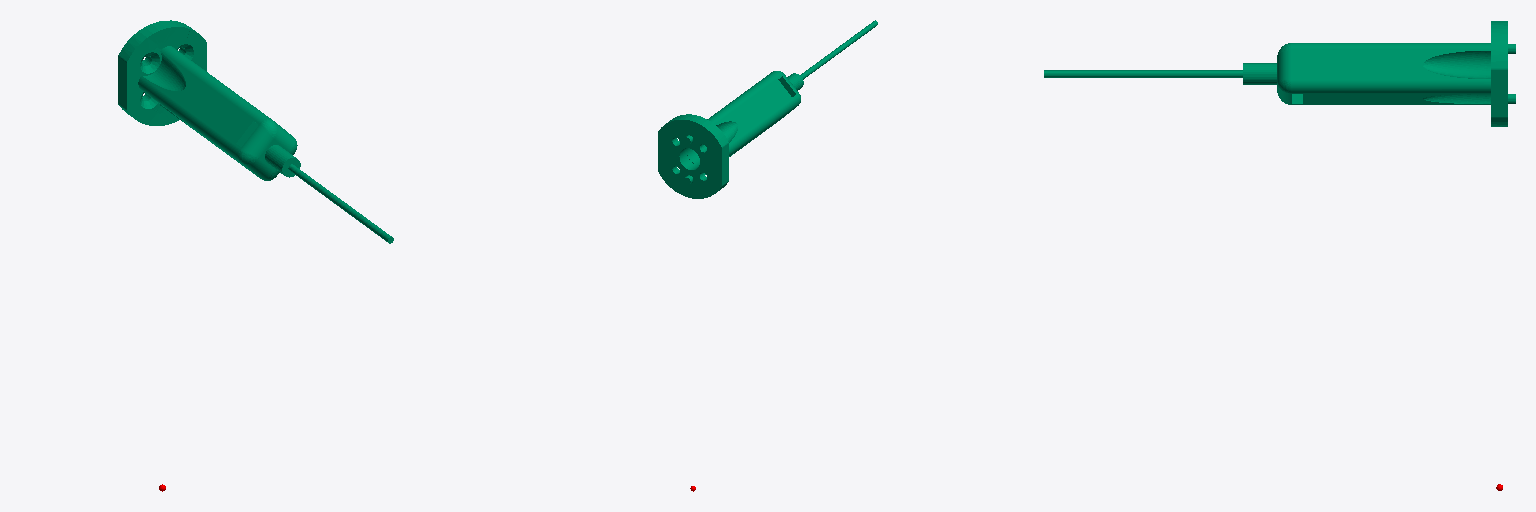
URDF robot description (meca500_tool_needle):
<?xml version="1.0" ?>
<!-- =================================================================================== -->
<!-- |    This document was autogenerated by xacro from dummy_needle_tool.urdf.xacro   | -->
<!-- |    EDITING THIS FILE BY HAND IS NOT RECOMMENDED                                 | -->
<!-- =================================================================================== -->
<robot name="meca500_tool_needle">
  <!-- <link name="world_base">
    </link>
    
    <joint name="world_base" type="fixed">
        <parent link="world_base"/>
        <child link="dummy_needle_base"/>
        <origin rpy="0 0 0" xyz="0 0 0"/>
      </joint> -->
  <link name="dummy_needle_base">
    </link>
  <link name="dummy_needle_ball_link">
    <collision>
      <origin rpy="0 0 0" xyz="0 0 0"/>
      <geometry>
        <sphere radius="0.002"/>
      </geometry>
    </collision>
    <visual>
      <origin rpy="0 0 0" xyz="0 0 0"/>
      <geometry>
        <sphere radius="0.001"/>
      </geometry>
      <material name="red">
        <color rgba="1.0 0.0 0.0 1.0"/>
      </material>
    </visual>
  </link>
  <link name="dummy_needle_cylinder_link">
    <collision>
      <origin rpy="0 1.5707963267948966 -1.5707963267948966" xyz="0 0 0"/>
      <geometry>
        <mesh filename="package://mecademic_description/meshes/dummy_needle_tool.stl"/>
      </geometry>
    </collision>
    <visual>
      <origin rpy="0 1.5707963267948966 -1.5707963267948966" xyz="0 0 0"/>
      <geometry>
        <mesh filename="package://mecademic_description/meshes/dummy_needle_tool.dae"/>
      </geometry>
    </visual>
  </link>
  <joint name="dummy_needle_yaw_joint" type="revolute">
    <parent link="dummy_needle_base"/>
    <child link="dummy_needle_yaw_link"/>
    <axis xyz="1 0 0 "/>
    <!-- <origin xyz ="${xyz}" rpy="${rpy}"/> -->
    <origin rpy="0 0 0" xyz="0 0 0"/>
    <limit effort="1000" lower="-1.5707963267948966" upper="1.5707963267948966" velocity="50.0"/>
  </joint>
  <link name="dummy_needle_yaw_link">
    </link>
  <joint name="dummy_needle_pitch_joint" type="revolute">
    <parent link="dummy_needle_yaw_link"/>
    <child link="dummy_needle_pitch_link"/>
    <axis xyz="0 1 0"/>
    <limit effort="1000" lower="-1.5707963267948966" upper="1.5707963267948966" velocity="50.0"/>
  </joint>
  <link name="dummy_needle_pitch_link">
    </link>
  <joint name="dummy_needle_roll_joint" type="revolute">
    <parent link="dummy_needle_pitch_link"/>
    <child link="dummy_needle_roll_link"/>
    <axis xyz="0 0 1"/>
    <limit effort="1000" lower="-1.5707963267948966" upper="1.5707963267948966" velocity="50.0"/>
  </joint>
  <link name="dummy_needle_roll_link">
    </link>
  <joint name="dummy_needle_ball_joint" type="fixed">
    <parent link="dummy_needle_roll_link"/>
    <child link="dummy_needle_ball_link"/>
    <origin rpy="0 0 0" xyz="0 0 0"/>
  </joint>
  <joint name="dummy_needle_insert_joint" type="prismatic">
    <parent link="dummy_needle_ball_link"/>
    <child link="dummy_needle_cylinder_link"/>
    <origin rpy="0 1.5707963267948966 1.5707963267948966" xyz="0 0 .1284"/>
    <limit effort="1000" lower="0.0" upper="0.1284" velocity="50.0"/>
  </joint>
  <link name="dummy_needle_tip_link">
    <collision>
      <origin rpy="0 0 0" xyz="0 0 0"/>
      <geometry>
        <sphere radius=".001"/>
      </geometry>
    </collision>
    <visual>
      <origin rpy="0 0 0" xyz="0 0 0"/>
      <geometry>
        <sphere radius=".001"/>
      </geometry>
      <material name="red">
        <color rgba="1.0 0.0 0.0 1.0"/>
      </material>
    </visual>
  </link>
  <joint name="dummy_needle_tip_joint" type="fixed">
    <parent link="dummy_needle_cylinder_link"/>
    <child link="dummy_needle_tip_link"/>
    <origin rpy="1.5707963267948966 0 -1.5707963267948966" xyz="0.1284 0 0"/>
  </joint>
</robot>

--- Render facts (derived) ---
3 views of the same robot in one strip: view 1: azimuth 30°, elevation 25°; view 2: azimuth 150°, elevation 25°; view 3: azimuth 270°, elevation 25° (orthographic).
Model meca500_tool_needle with 7 links and 6 joints (3 revolute, 1 prismatic, 2 fixed), rooted at dummy_needle_base, posed all joints at 0.
Links seen in each view (by area): view 1: dummy_needle_cylinder_link; view 2: dummy_needle_cylinder_link; view 3: dummy_needle_cylinder_link.
Boxes of the visible links, x1,y1,x2,y2 form: dummy_needle_cylinder_link: [118, 20, 393, 243]; dummy_needle_cylinder_link: [658, 20, 877, 198]; dummy_needle_cylinder_link: [1044, 21, 1515, 126].
Size in the robot's own frame: 0.026 by 0.1325 by 0.1444 metres.
Meshes: 1 distinct files referenced, 1 mesh visuals loaded (1 Collada DAE).
